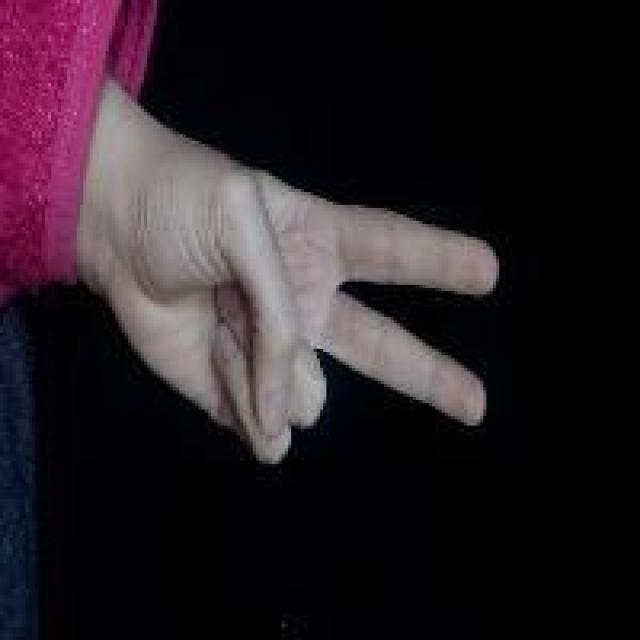V: (125, 138, 467, 531)
